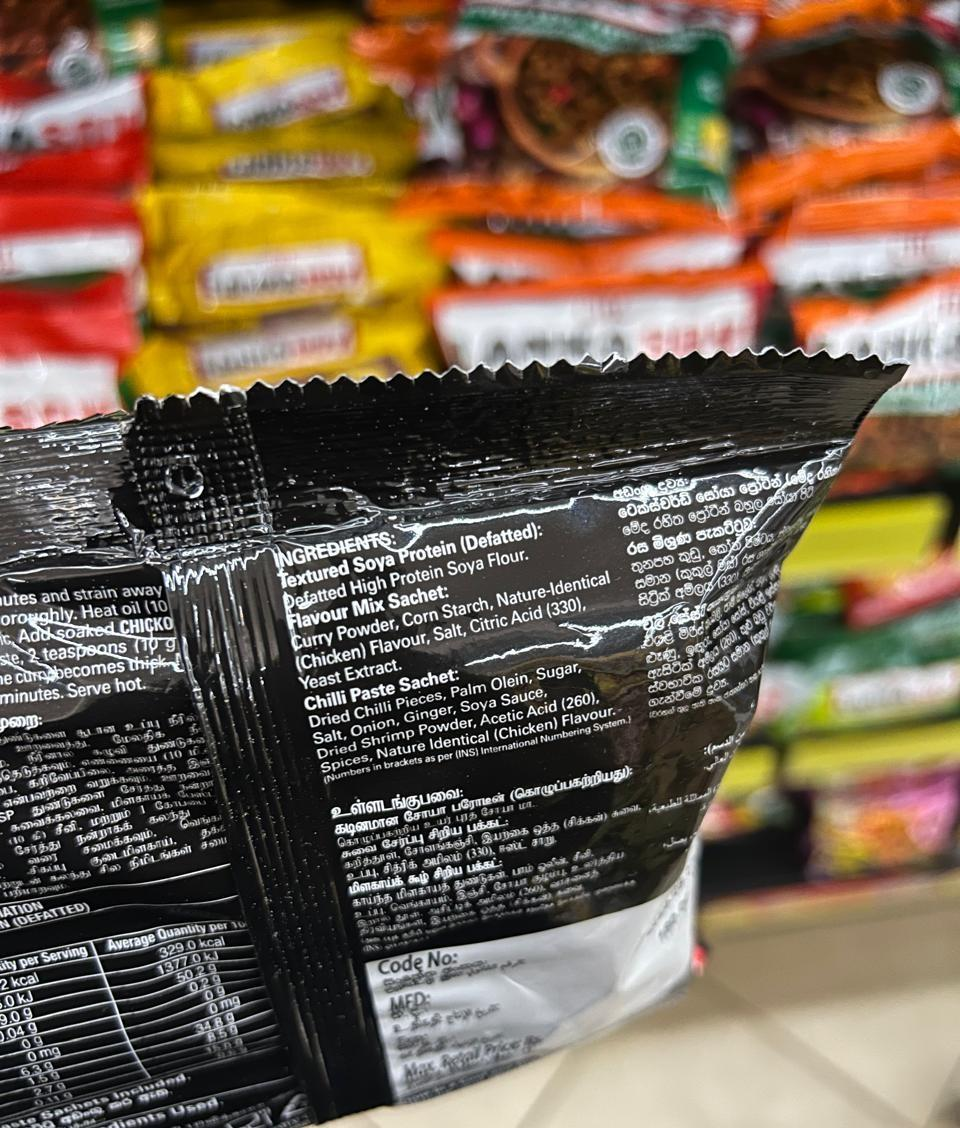ingredients: (224, 482, 649, 804)
